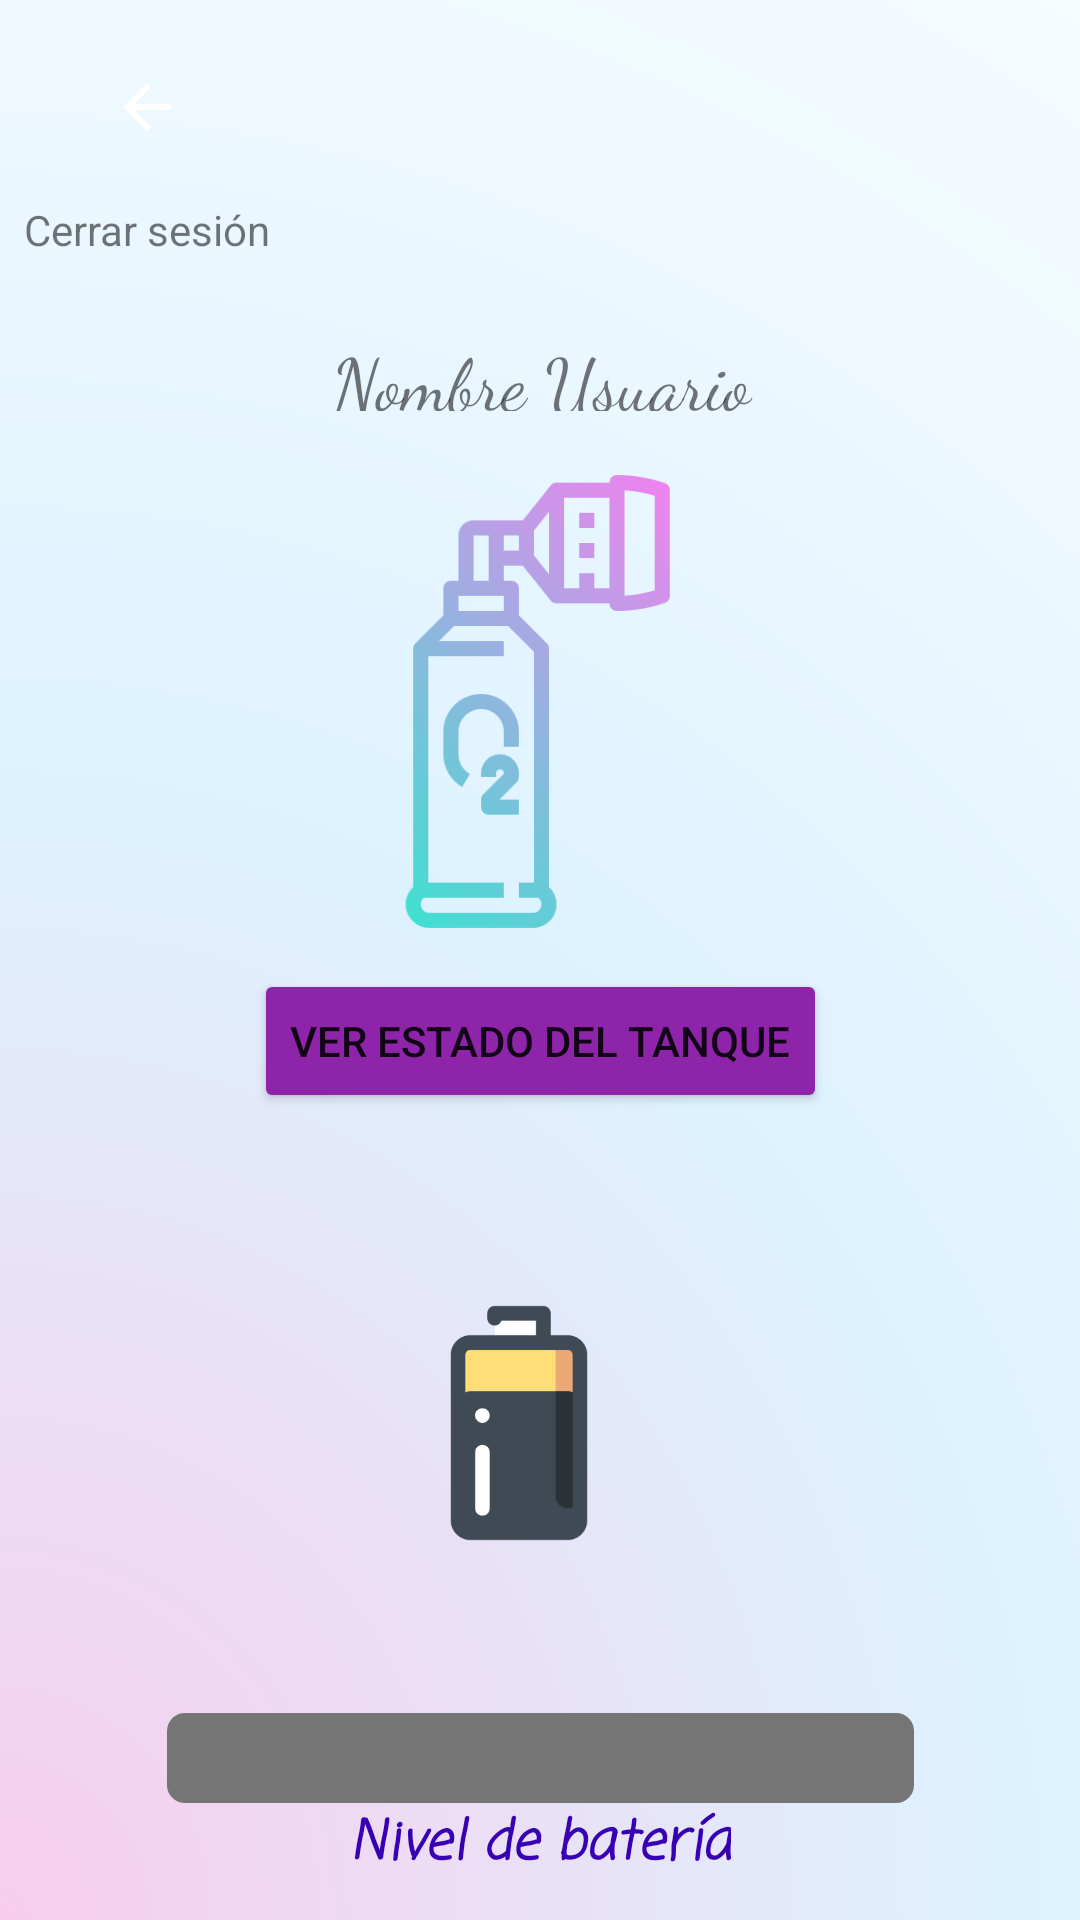

Icons on this 1080 × 1920 Android screen, each with the point to tap as (x=x, y=y):
battery: (x=519, y=1423)
